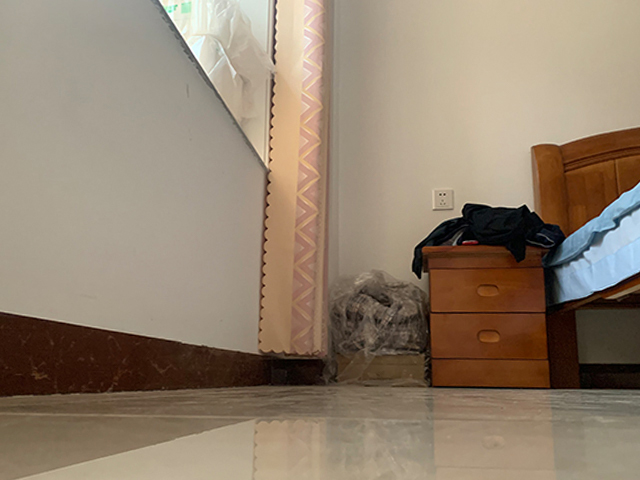bed: (529, 126, 640, 389)
cabinet: (421, 244, 551, 388)
curtain: (256, 1, 333, 360)
